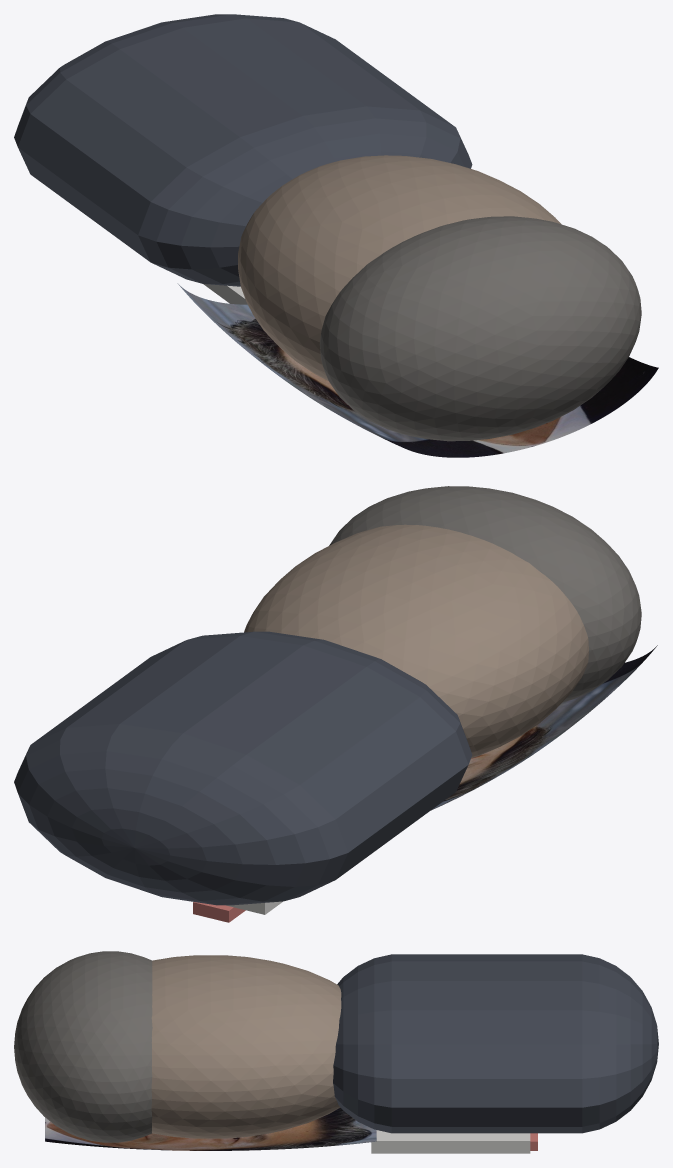
File: koizumi_face_3d.glb
3 renders of one model, top to bottom at view 1: azimuth 30°, elevation 25°; view 2: azimuth 150°, elevation 25°; view 3: azimuth 270°, elevation 25°, orthographic. The views are drawn at different scales.
Visible parts, largest first — view 1: suit_bust, hair_back, head_volume, photographic_face_surface; view 2: suit_bust, head_volume, hair_back, photographic_face_surface, tie; view 3: suit_bust, head_volume, hair_back, photographic_face_surface, shirt.
Boxes of the visible parts, left/top/right/bottom form: suit_bust: left=14, top=14, right=472, bottom=286; hair_back: left=319, top=216, right=641, bottom=441; head_volume: left=238, top=155, right=561, bottom=381; photographic_face_surface: left=177, top=283, right=658, bottom=457; suit_bust: left=14, top=631, right=472, bottom=905; head_volume: left=244, top=524, right=588, bottom=758; hair_back: left=329, top=486, right=641, bottom=702; photographic_face_surface: left=431, top=645, right=657, bottom=810; tie: left=193, top=902, right=245, bottom=922; suit_bust: left=333, top=954, right=658, bottom=1133; head_volume: left=151, top=955, right=341, bottom=1138; hair_back: left=14, top=951, right=152, bottom=1142; photographic_face_surface: left=45, top=1107, right=376, bottom=1150; shirt: left=371, top=1130, right=530, bottom=1153.
Bounding box in the file's own units: 1.75 × 1.11 × 3.74.
Materials: 1 (1 with a texture image).
